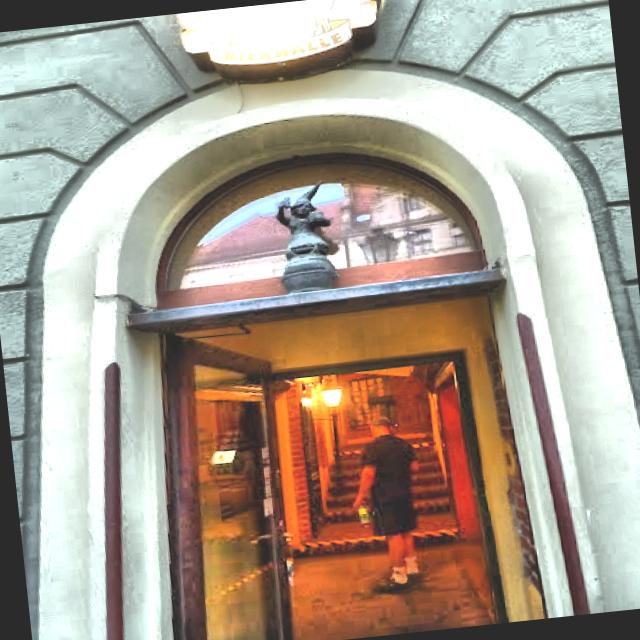Bawarka: (276, 182, 338, 293)
